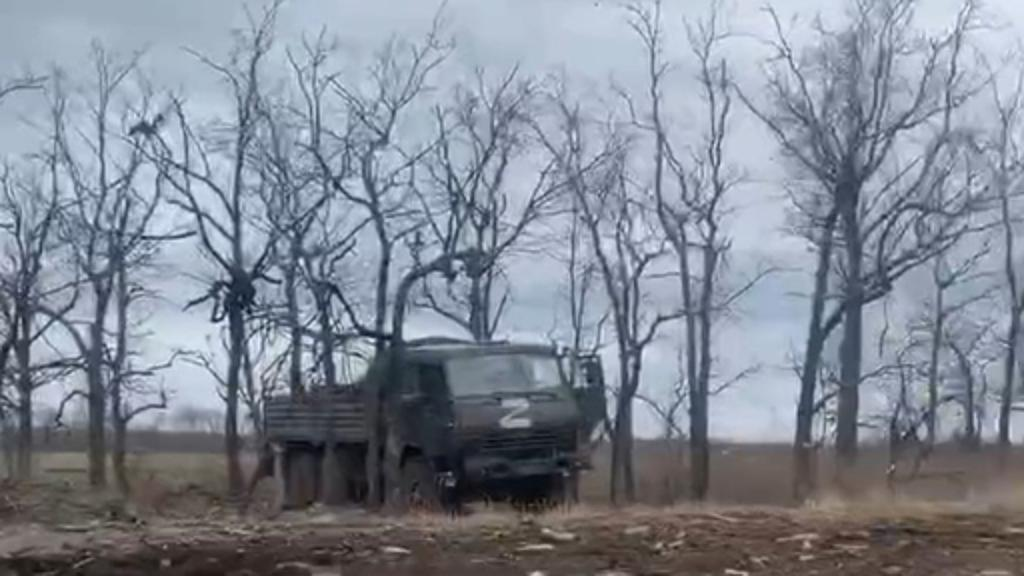TRUCK: (258, 330, 604, 510)
